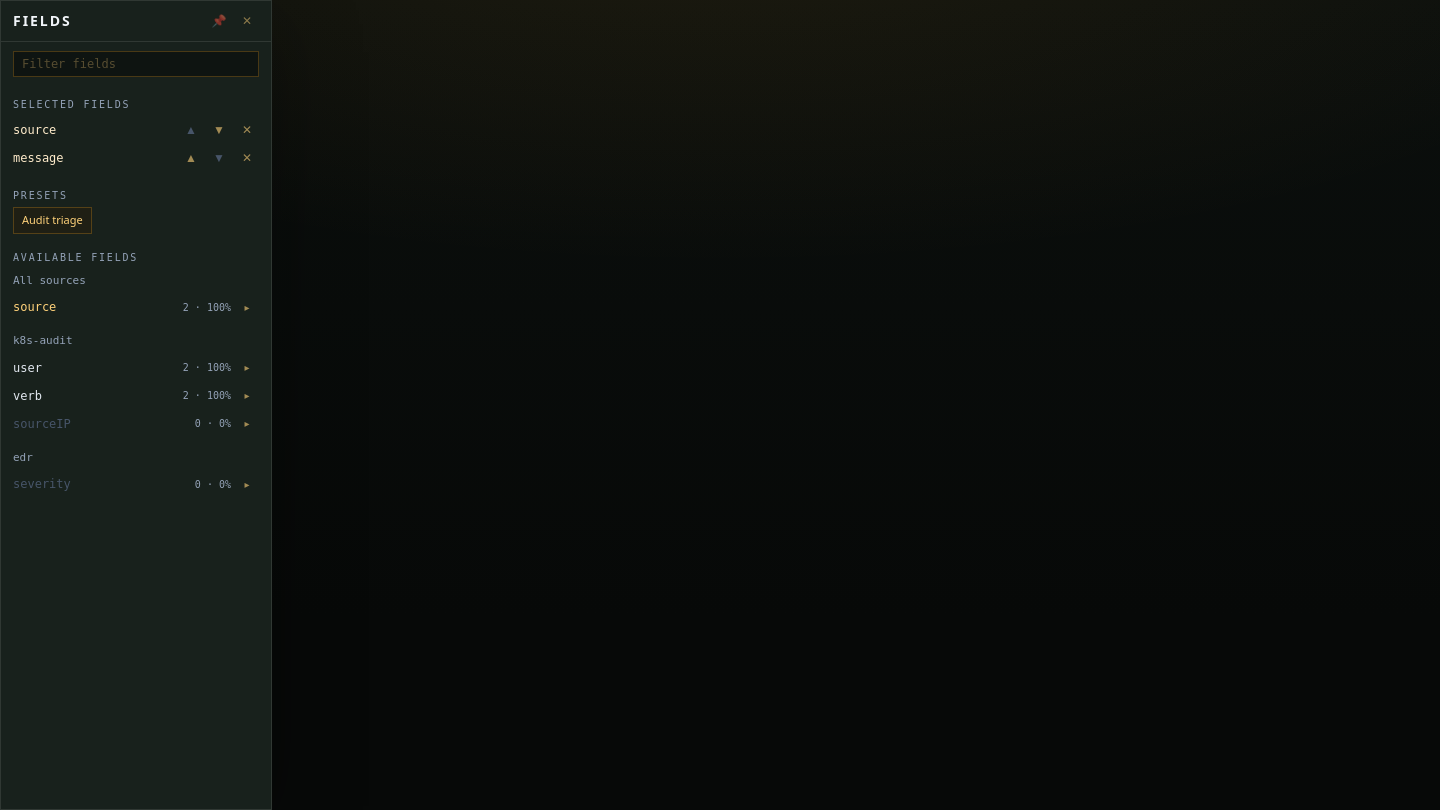
Test: FieldPanel › narrows the field list as you type
In the field labelled "Filter fields": coordinates (136, 64) [13, 51, 259, 77], type "ver"
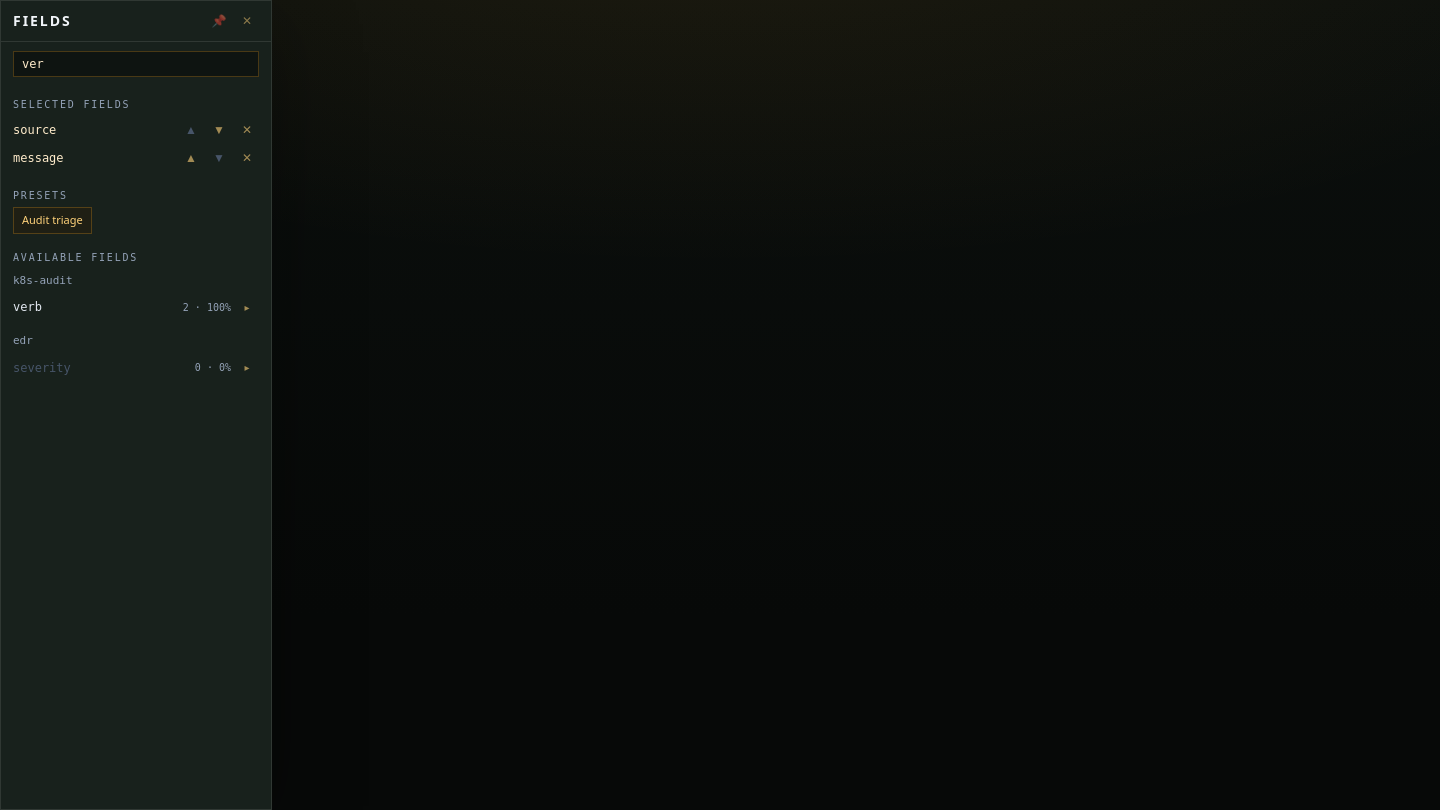
Check: the list item with test id "field-verb" is shown, box [13, 293, 259, 321]
Check: the list item with test id "field-user" is gone
